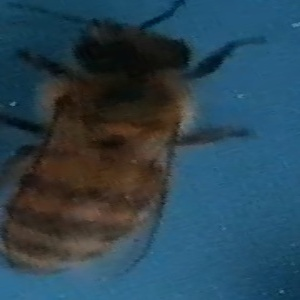bee: (3, 7, 258, 278)
